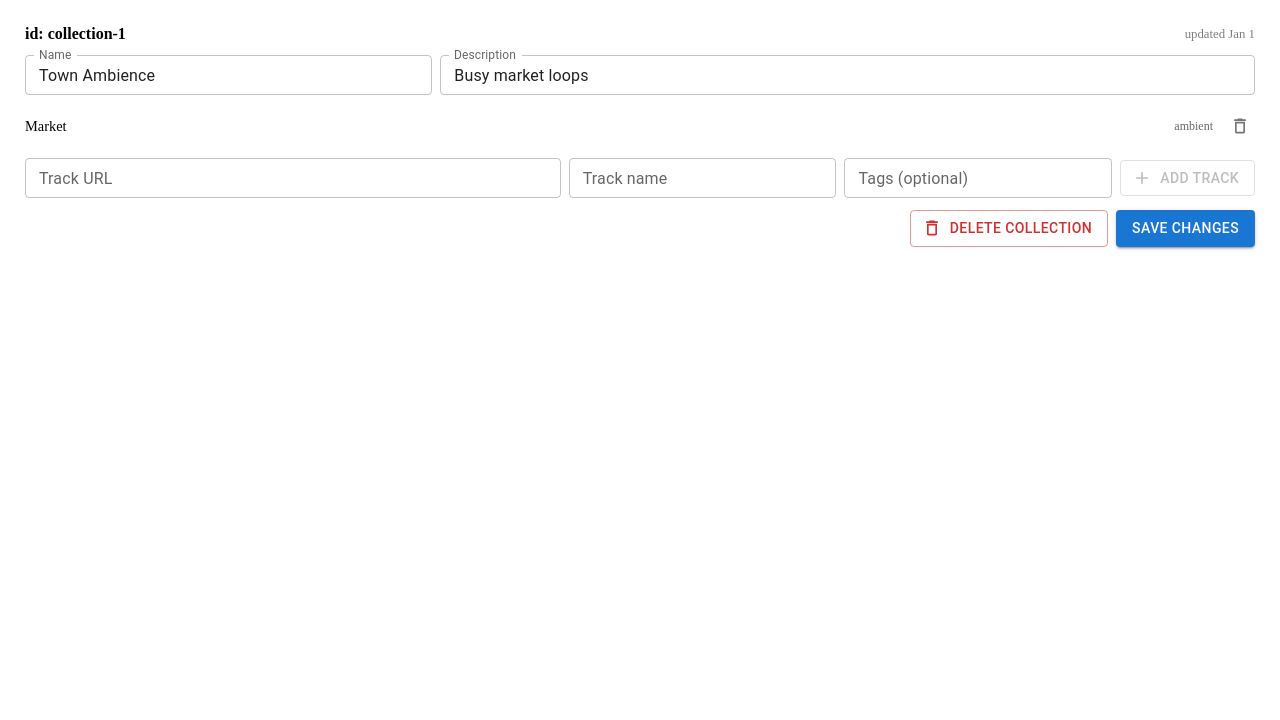
Scenario: EditableCollectionCard › does not delete when the confirmation is cancelled
Click the button "Delete collection": (1009, 228) top-left (910, 210), bottom-right (1108, 246)
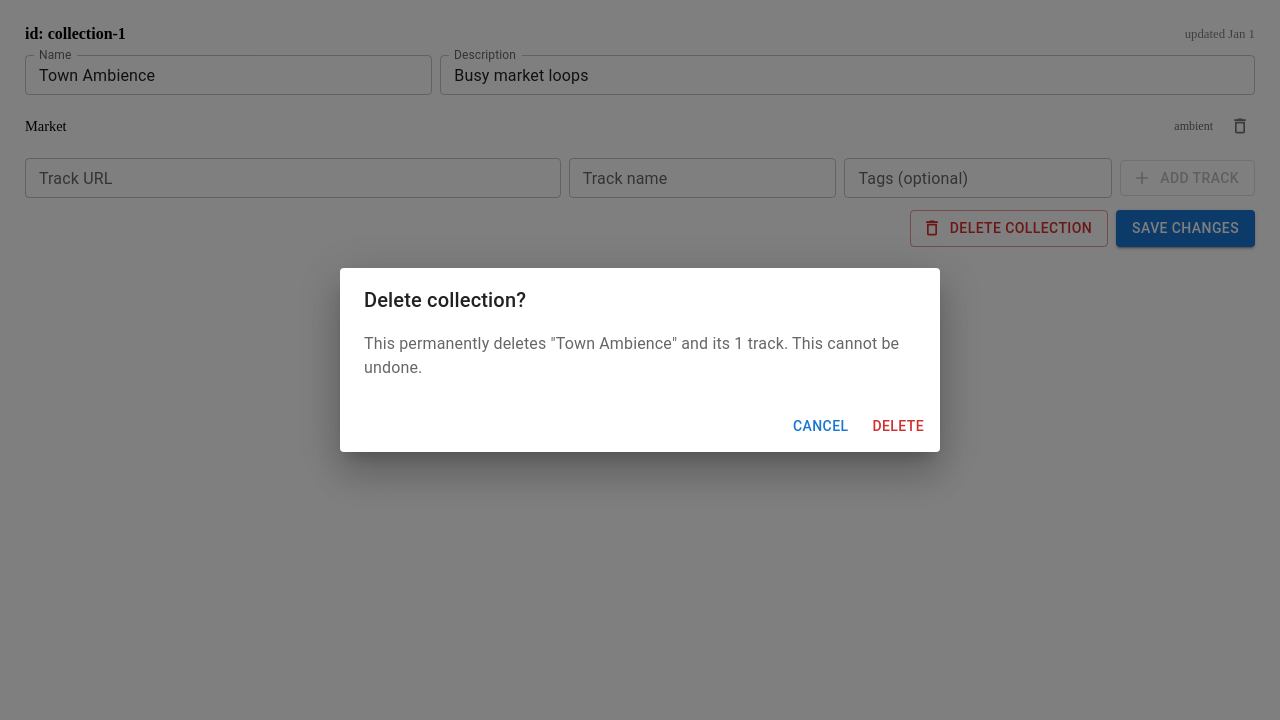
Click the button "Cancel": (821, 426) top-left (785, 408), bottom-right (856, 444)
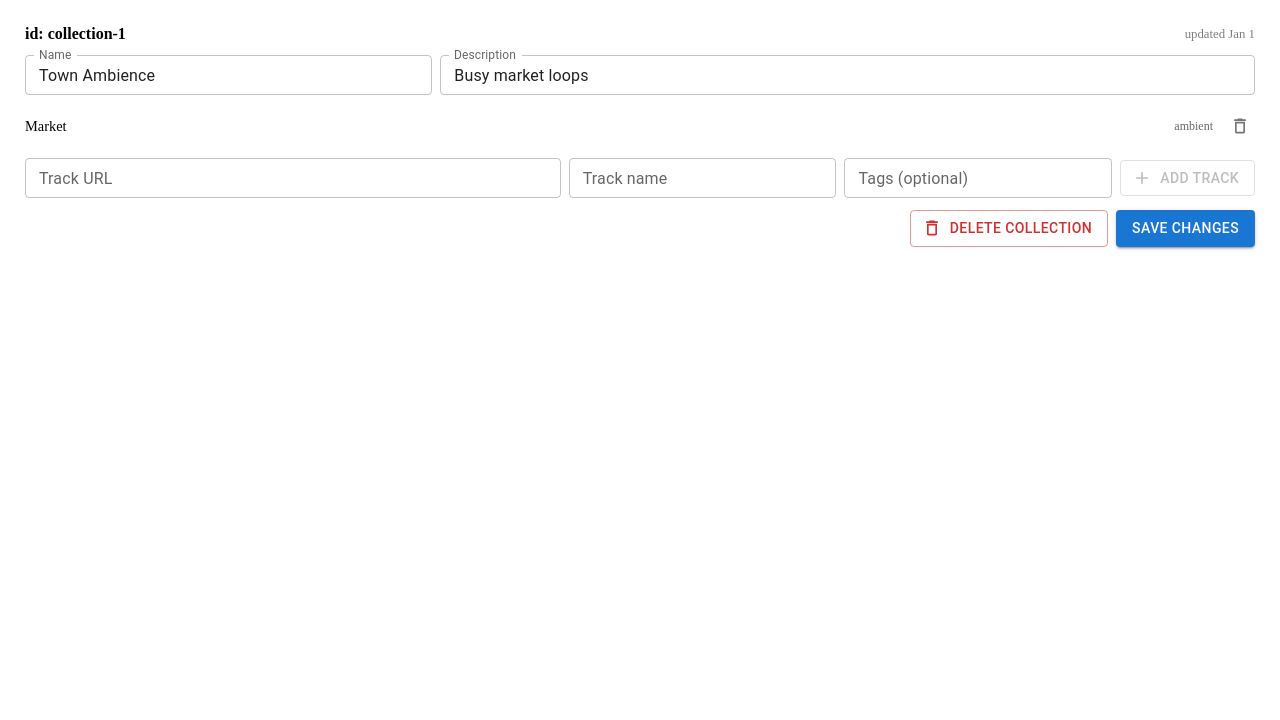
Expected: the dialog is gone
